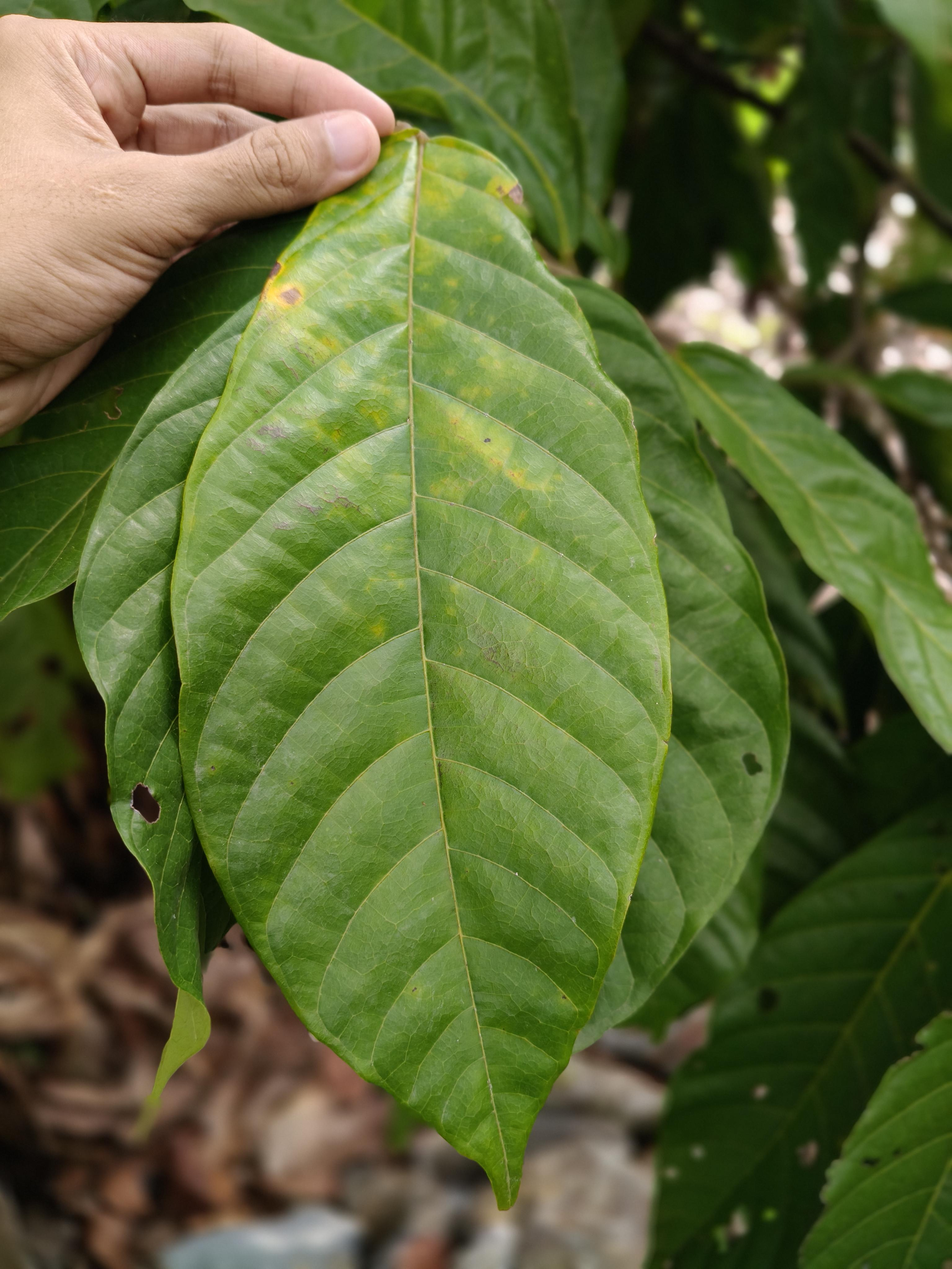deficiencia_potasio: (174, 121, 669, 1218)
